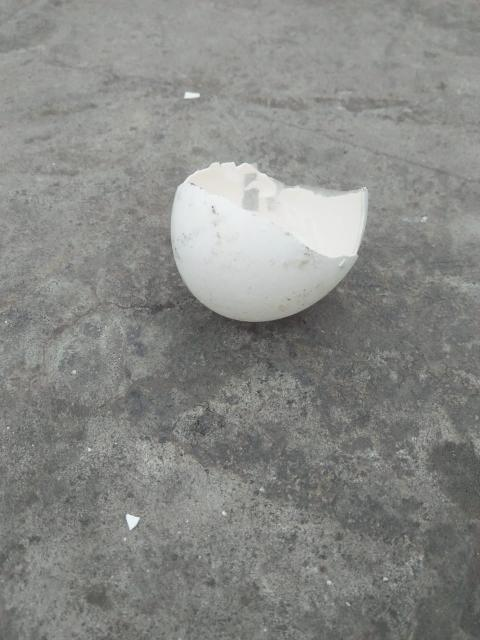Roto: (169, 160, 369, 323)
